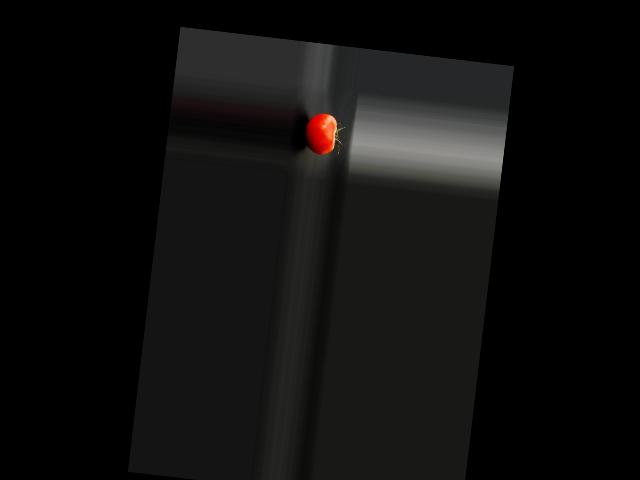tomato: (303, 111, 338, 155)
